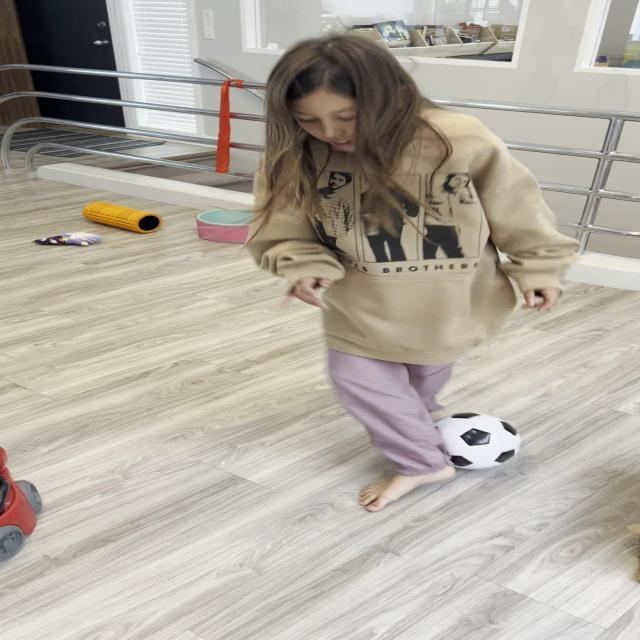Soccer Ball: (423, 413, 522, 469)
